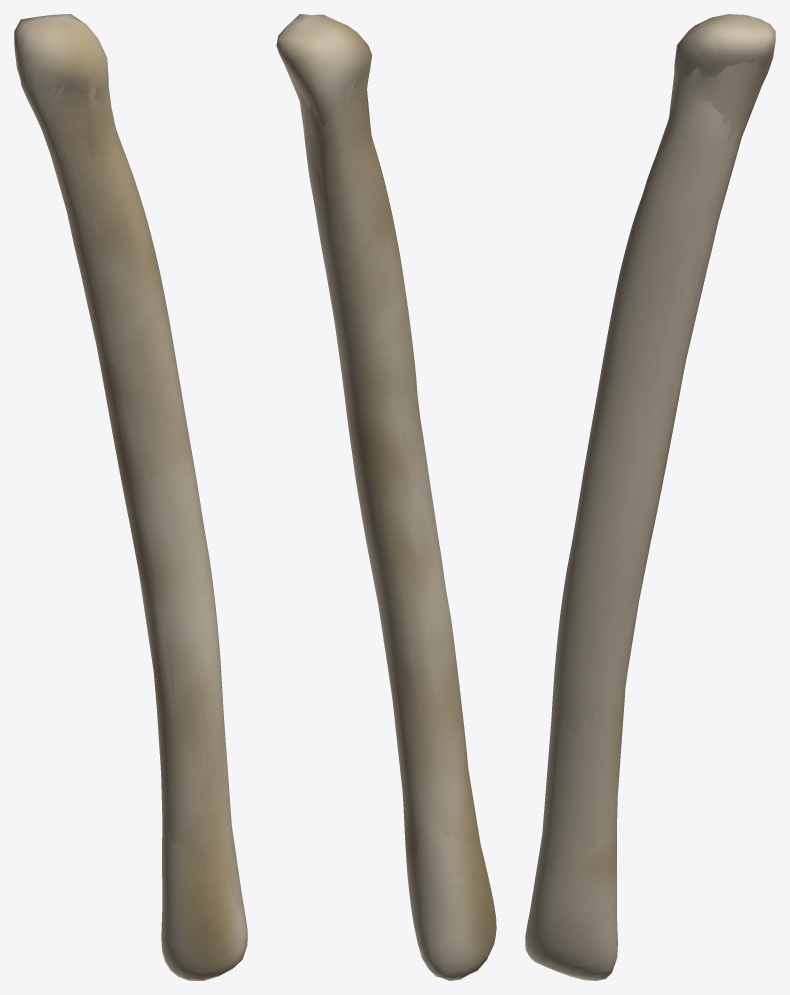
The model's file is R metatarsi tertium.fbx.
3 renders of one model, left to right at view 1: azimuth 90°, elevation 25°; view 2: azimuth 150°, elevation 25°; view 3: azimuth 270°, elevation 25°, orthographic. The views are drawn at different scales.
Parts seen in each view (by area): view 1: R metatarsi tertium high, R metatarsi tertium low, R metatarsi tertium; view 2: R metatarsi tertium high, R metatarsi tertium low, R metatarsi tertium; view 3: R metatarsi tertium high, R metatarsi tertium low.
Boxes of the visible parts, <box> form: R metatarsi tertium high: <box>14,14,247,980</box>; R metatarsi tertium low: <box>22,32,243,915</box>; R metatarsi tertium: <box>40,86,202,820</box>; R metatarsi tertium high: <box>276,14,496,980</box>; R metatarsi tertium low: <box>284,47,480,914</box>; R metatarsi tertium: <box>307,80,435,820</box>; R metatarsi tertium high: <box>525,14,775,980</box>; R metatarsi tertium low: <box>530,30,763,921</box>.
Size of the model in its own units: 2.47 by 19.52 by 4.46.
